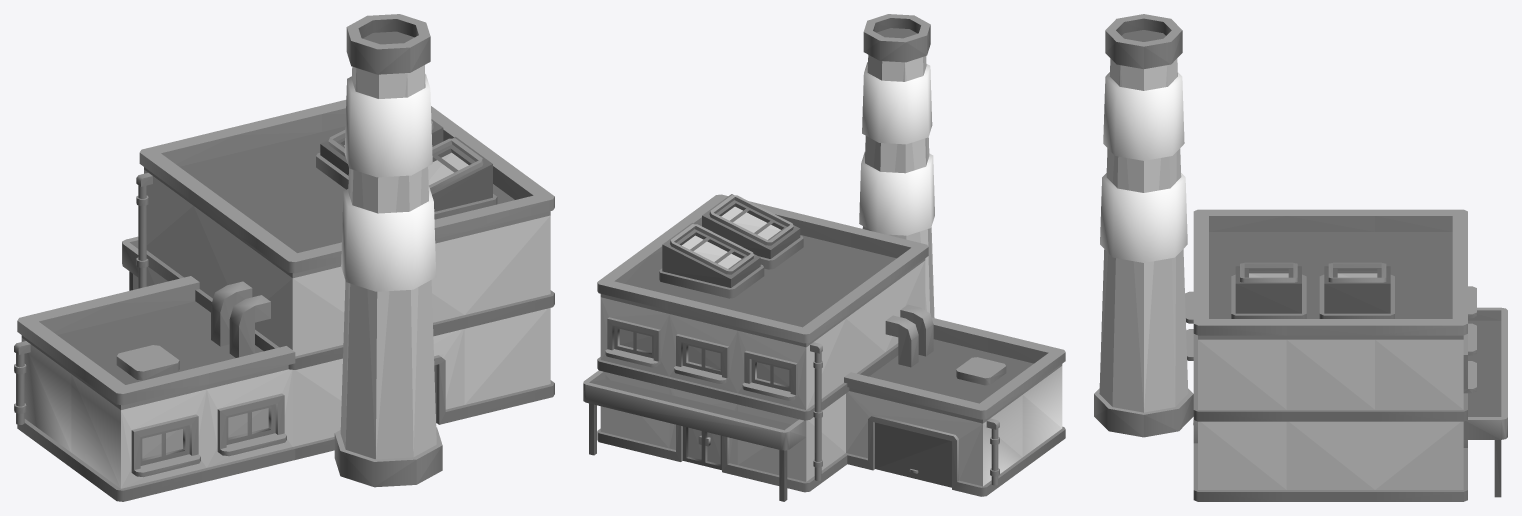
The model's file is tide_refinery.glb.
3 views of the same model, side by side, from view 1: azimuth 30°, elevation 25°; view 2: azimuth 150°, elevation 25°; view 3: azimuth 270°, elevation 25° (orthographic). The views are drawn at different scales.
Parts seen in each view (by area): view 1: Body; view 2: Body; view 3: Body.
Part boxes in pixels (left/top/right/bottom): Body: left=14, top=14, right=554, bottom=501; Body: left=583, top=14, right=1065, bottom=501; Body: left=1094, top=14, right=1507, bottom=501.
Size of the model in its own units: 18 by 16.63 by 16.15.
Materials: 2 (1 with a texture image).
